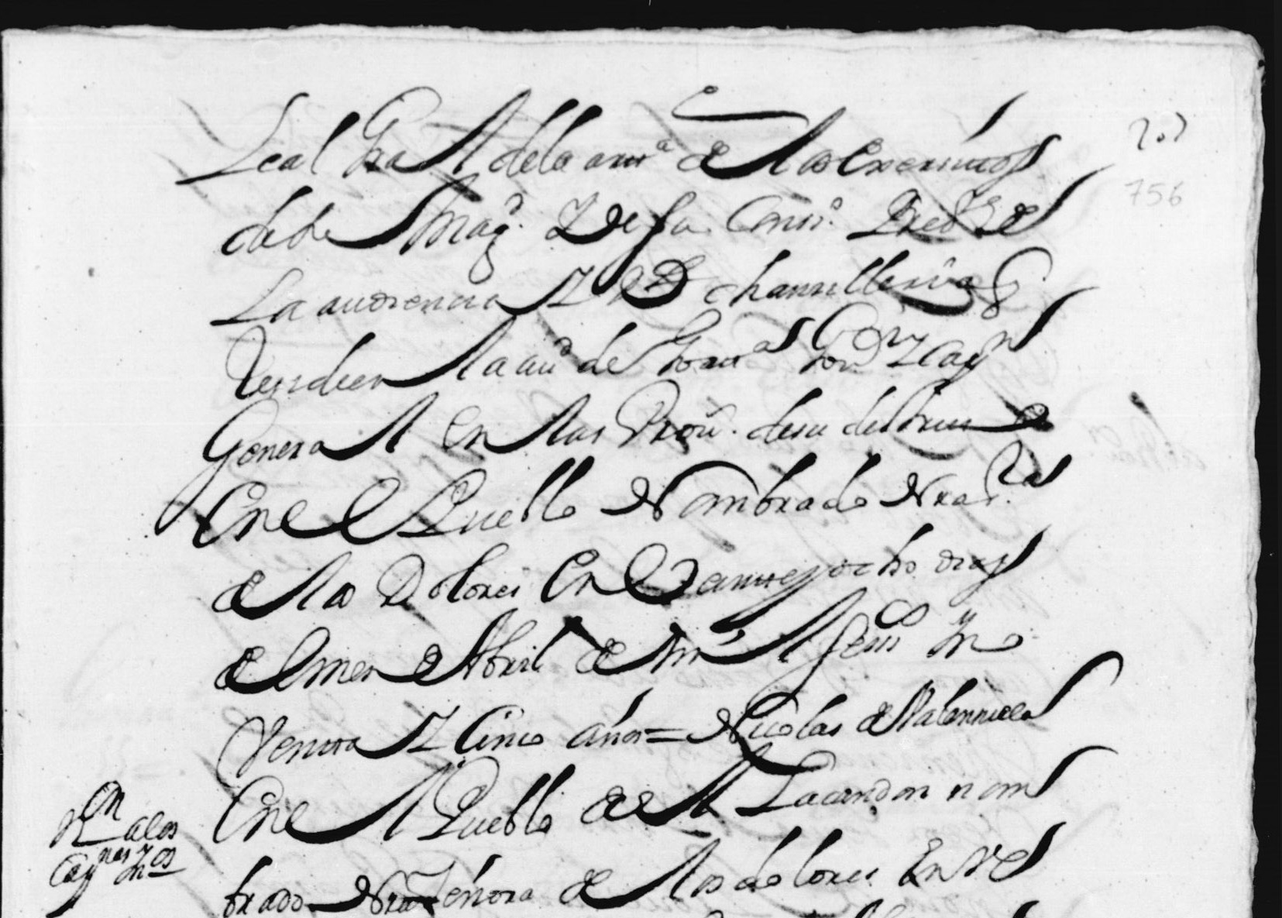lacandon: (734, 750, 929, 817)
